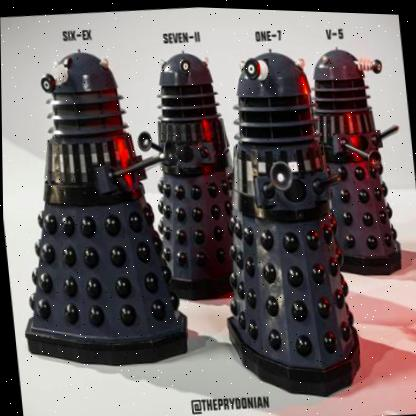dalek: (2, 29, 202, 389), (202, 43, 362, 410), (139, 40, 255, 314), (301, 37, 410, 279)
